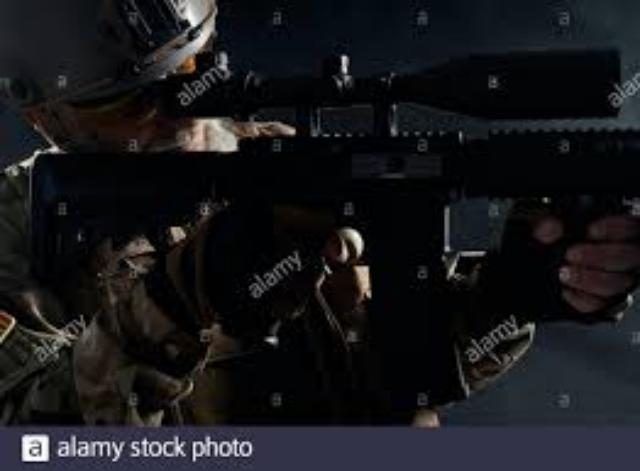other: (0, 0, 248, 429)
